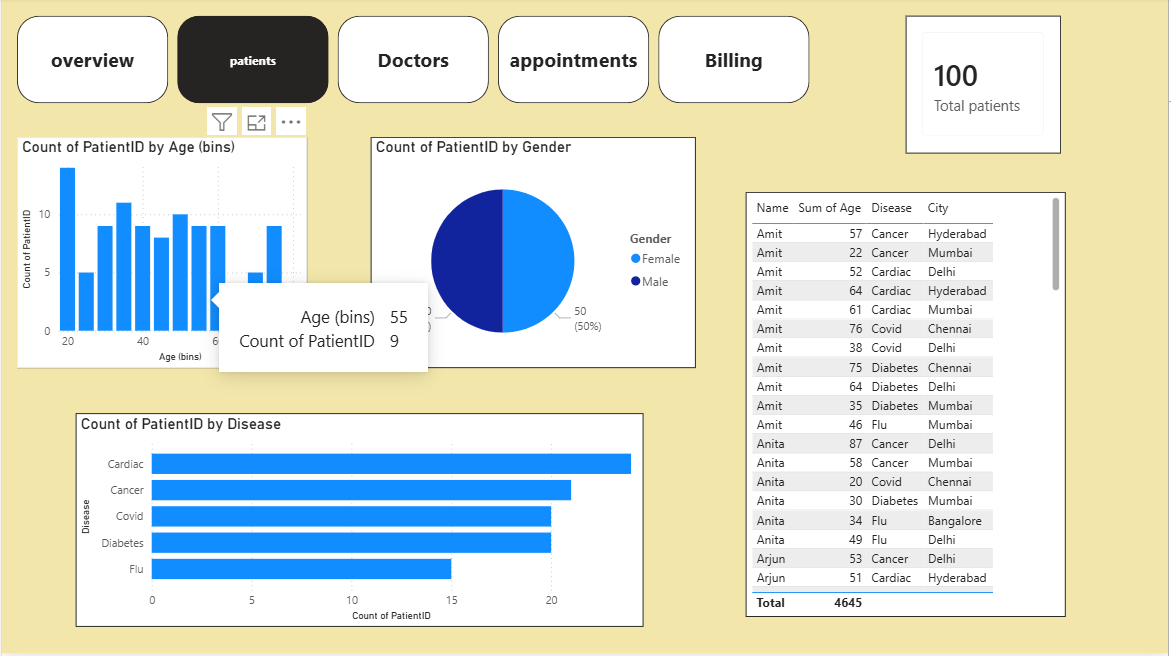

What the dashboard file says about the page in this screenshot:
{"tool":"powerbi","page":{"name":"patients","canvas":[1280,720],"ordinal":1},"visuals":[{"type":"pageNavigator","box":[16.5,20.6,871.4,96.1],"z":0},{"type":"cardVisual","fields":{"Data":["Patients.Total patients"]},"box":[992.1,20.6,170.2,150.9],"z":1000},{"type":"columnChart","fields":{"Y":["CountNonNull(Patients.PatientID)"],"Category":["Patients.Age (bins)"]},"box":[16.5,153.7,318.4,253.9],"z":2000},{"type":"pieChart","fields":{"Category":["Patients.Gender"],"Y":["CountNonNull(Appointments.PatientID)"]},"box":[404.8,153.7,356.8,253.9],"z":3000},{"type":"barChart","fields":{"Y":["CountNonNull(Patients.PatientID)"],"Category":["Patients.Disease"]},"box":[81,456.9,623,234.6],"z":4000},{"type":"tableEx","fields":{"Values":["Patients.Name","Sum(Patients.Age)","Patients.Disease","Patients.City"]},"box":[816.5,214.1,351.3,466.6],"z":5000}]}

Visuals, with their boxes in screenshot pixels (x1, y1, x2, y2), scaled from the page's 1280x720 canvas onto the 1171x656 screenshot:
pageNavigator: (15, 19, 812, 106)
cardVisual - Patients.Total patients: (908, 19, 1063, 156)
columnChart - CountNonNull(Patients.PatientID) x Patients.Age (bins): (15, 140, 306, 371)
pieChart - Patients.Gender x CountNonNull(Appointments.PatientID): (370, 140, 697, 371)
barChart - CountNonNull(Patients.PatientID) x Patients.Disease: (74, 416, 644, 630)
tableEx - Patients.Name x Sum(Patients.Age): (747, 195, 1068, 620)
